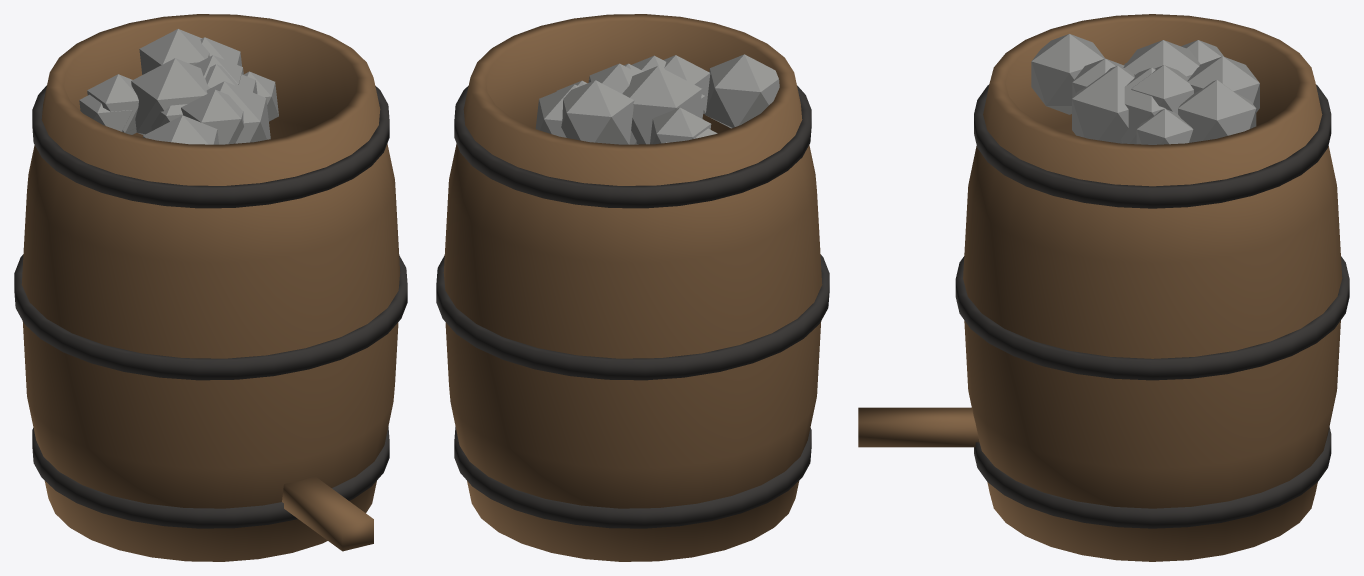
Rendered from LeachBarrel.fbx.
3 views of the same model, side by side, from view 1: azimuth 30°, elevation 25°; view 2: azimuth 150°, elevation 25°; view 3: azimuth 270°, elevation 25° (orthographic).
Parts seen in each view (by area): view 1: ext_barrel_body, ext_barrel_hoops, ext_barrel_stones, ext_barrel_spout; view 2: ext_barrel_body, ext_barrel_hoops, ext_barrel_stones; view 3: ext_barrel_body, ext_barrel_hoops, ext_barrel_stones, ext_barrel_spout.
Part boxes in pixels (bbox=[...]): ext_barrel_body: bbox=[21, 14, 400, 561]; ext_barrel_hoops: bbox=[14, 85, 407, 528]; ext_barrel_stones: bbox=[79, 29, 278, 144]; ext_barrel_spout: bbox=[282, 476, 373, 551]; ext_barrel_body: bbox=[443, 14, 822, 561]; ext_barrel_hoops: bbox=[436, 85, 829, 528]; ext_barrel_stones: bbox=[535, 54, 779, 144]; ext_barrel_body: bbox=[963, 14, 1342, 561]; ext_barrel_hoops: bbox=[955, 84, 1349, 528]; ext_barrel_stones: bbox=[1031, 34, 1259, 144]; ext_barrel_spout: bbox=[858, 407, 979, 447].
Size of the model in its own units: 0.87 by 1.07 by 1.08.
